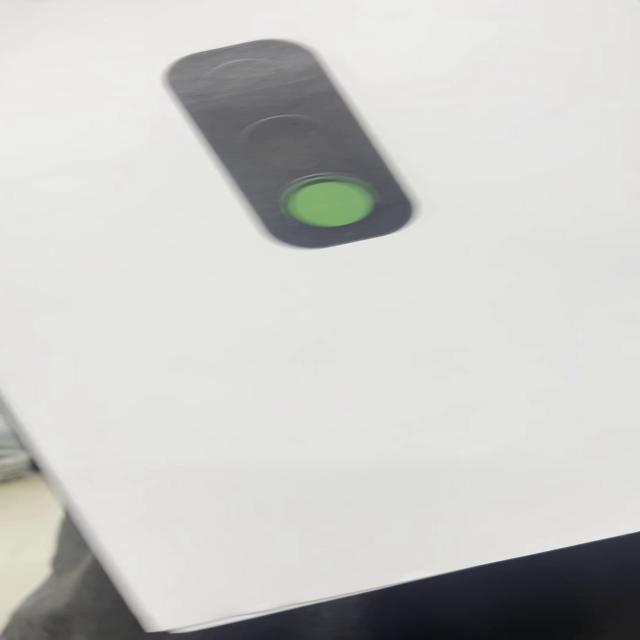green: (162, 32, 416, 252)
